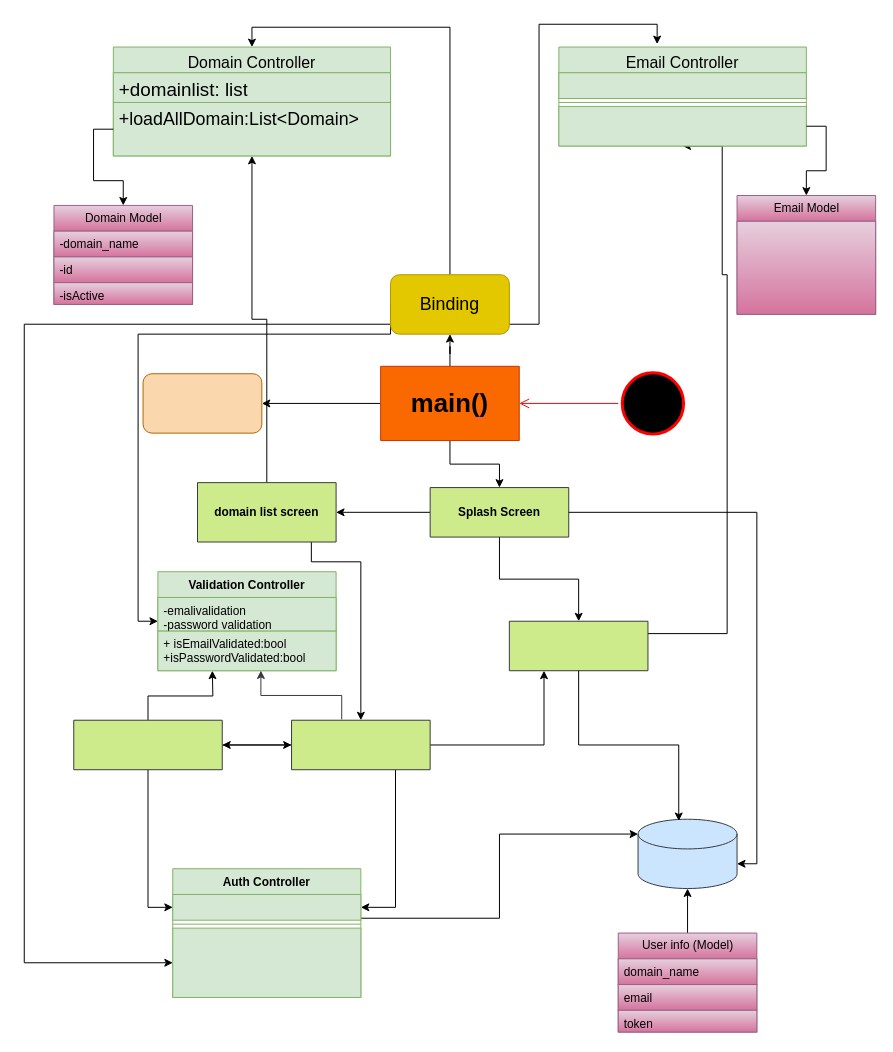
This 893x1052 diagram has some shape labels left out. The shapes that lost their labels are listed below. From the top down, each one's centre as x and y in pixels, then its label:
At (682,85): "+emaillist: list".
At (682,125): "+loadAllEmail:List<Message>".
At (806,267): "email_id from subject description date title".
At (202,403): "Routes".
At (578,645): "email list".
At (147,744): "Create account".
At (360,744): "Login".
At (687,853): "Shared Preferencs".
At (266,906): "+ isLoggedIn:bool".
At (266,962): "+ createAccount:void +login:void +logout:void".
